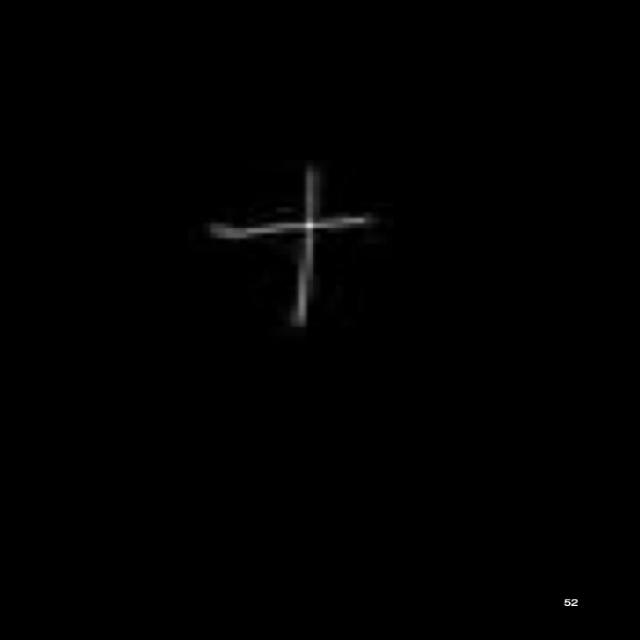10 -ten-: (199, 158, 379, 340)
